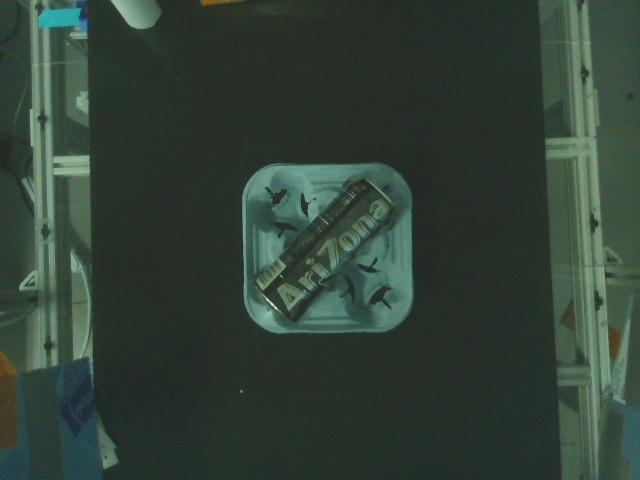cardboard: (243, 163, 413, 334), (110, 0, 163, 31), (200, 0, 248, 8)
metal: (254, 178, 398, 324)
